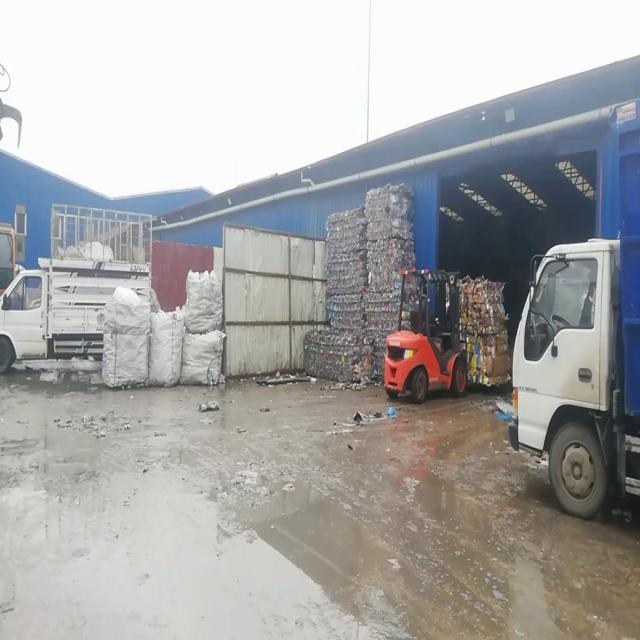forklift: (383, 268, 466, 400)
